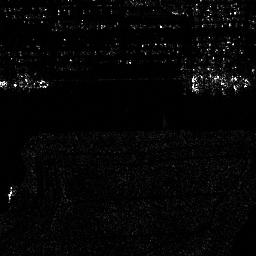ship: (191, 72, 250, 93)
